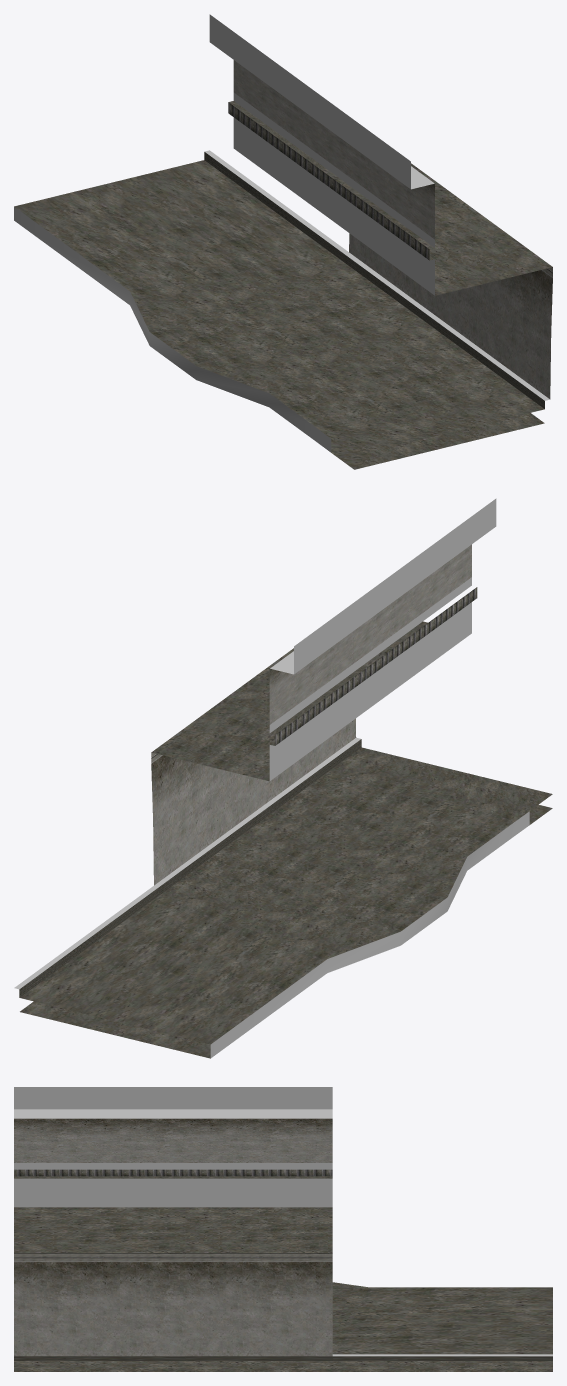
The model's file is DWARF_PALACE_ARKENSTONE_ROOM_BACKWALLE.obj.
3 views of the same model, one above another, from view 1: azimuth 30°, elevation 25°; view 2: azimuth 150°, elevation 25°; view 3: azimuth 270°, elevation 25° (orthographic). The views are drawn at different scales.
Visible parts, largest first — view 1: _room_backwallE; view 2: _room_backwallE; view 3: _room_backwallE.
Part boxes in pixels (left/top/right/bottom): _room_backwallE: left=14, top=14, right=552, bottom=469; _room_backwallE: left=14, top=498, right=552, bottom=1058; _room_backwallE: left=14, top=1087, right=552, bottom=1371.
Bounding box in the file's own units: 840 × 1050 × 2200.
